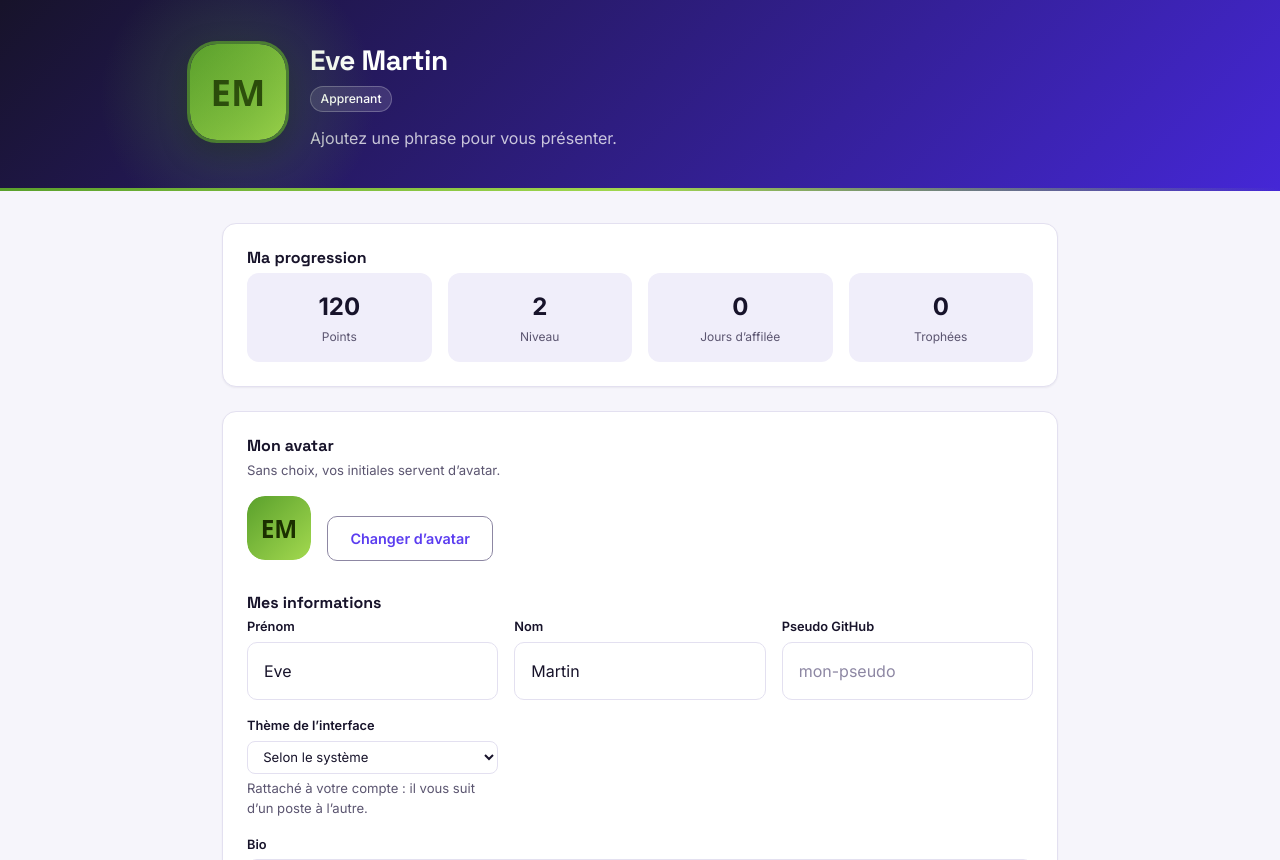
Test: ProfilePage › propose la bordure même sans visage choisi
The width and height of the screenshot is (1280, 860).
Click the button "Changer d’avatar": (410, 538) [327, 516, 493, 561]
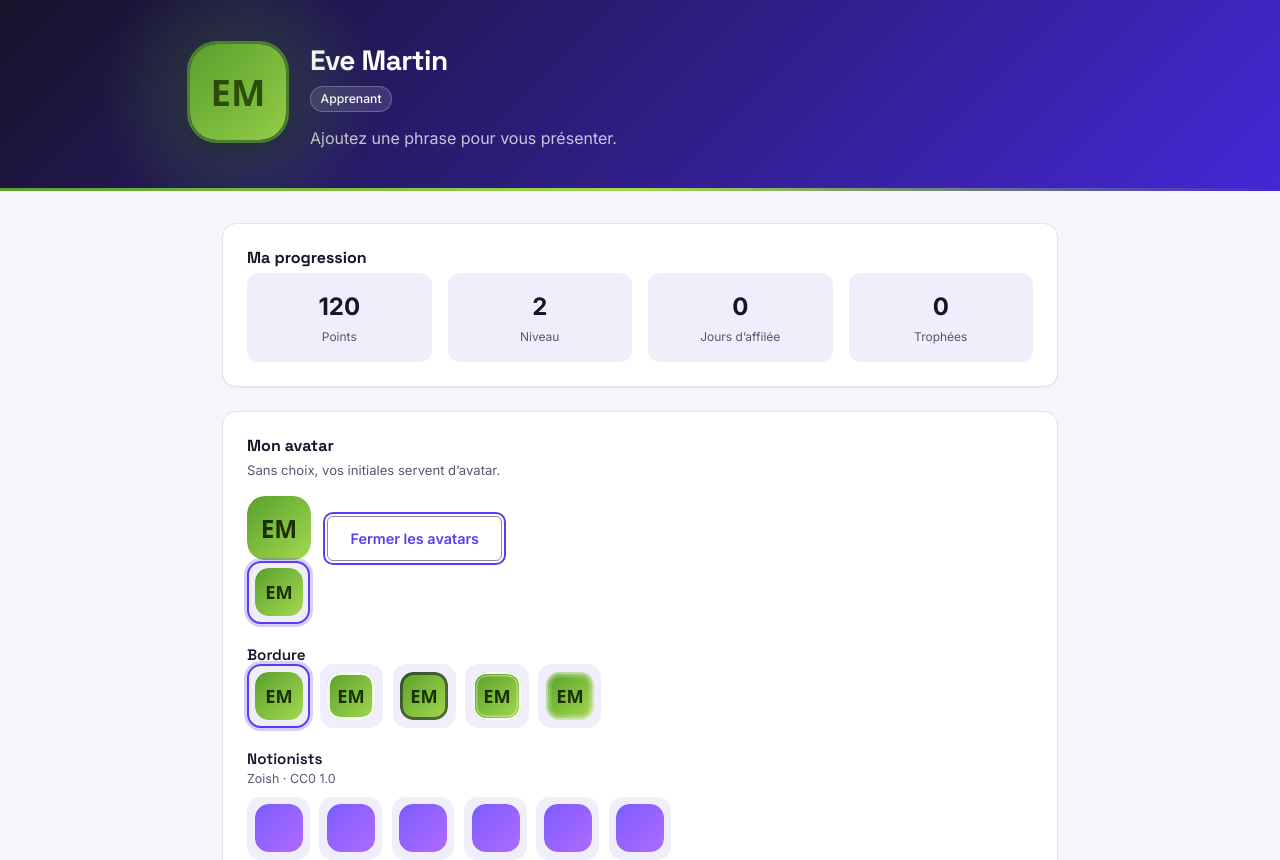
Expected: the radio button with aria-label "Bordure Halo" is shown, [538, 664, 601, 728]
